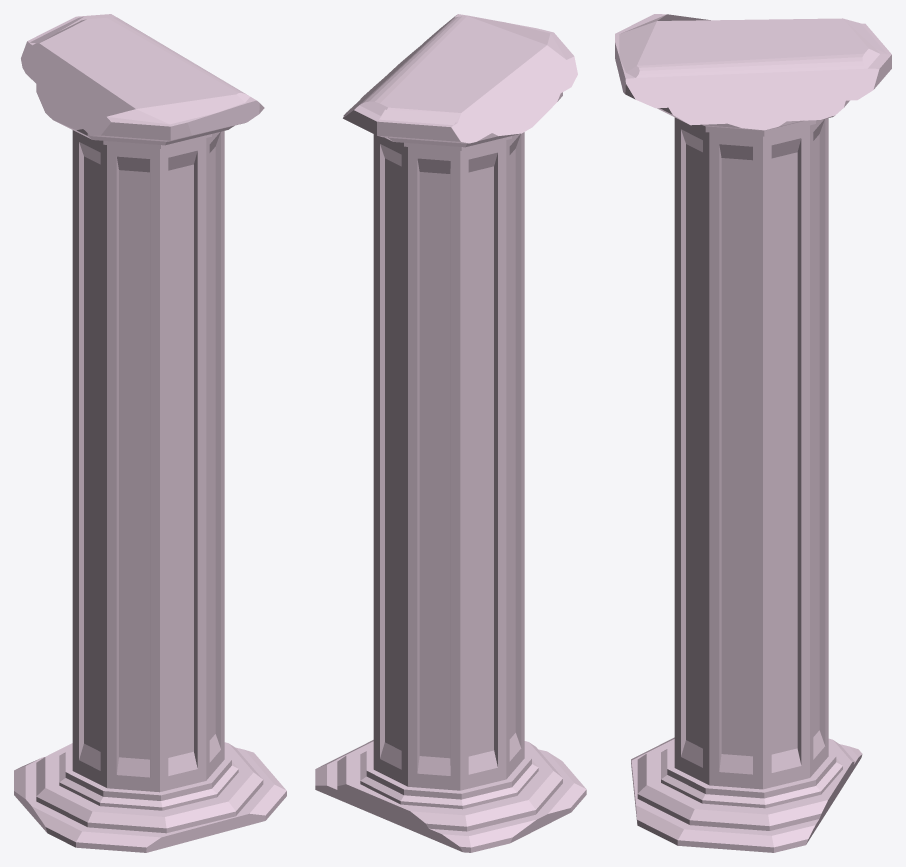
Rendered from Column_3.fbx.
The picture shows the model from 3 angles, left to right: view 1: azimuth 30°, elevation 25°; view 2: azimuth 150°, elevation 25°; view 3: azimuth 270°, elevation 25°; orthographic projection. The views are drawn at different scales.
Visible parts, largest first — view 1: Cylinder.030; view 2: Cylinder.030; view 3: Cylinder.030.
Boxes of the visible parts, x1,y1,x2,y2 form: Cylinder.030: (14, 14, 286, 852); Cylinder.030: (315, 14, 586, 852); Cylinder.030: (615, 14, 891, 852).
Bounding box in the file's own units: 191 × 576 × 194.
